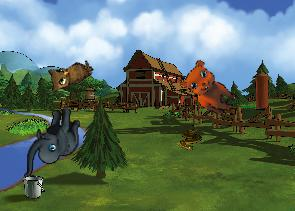bear: (175, 56, 245, 119)
elephant: (23, 107, 80, 177)
owl: (41, 48, 95, 97)
